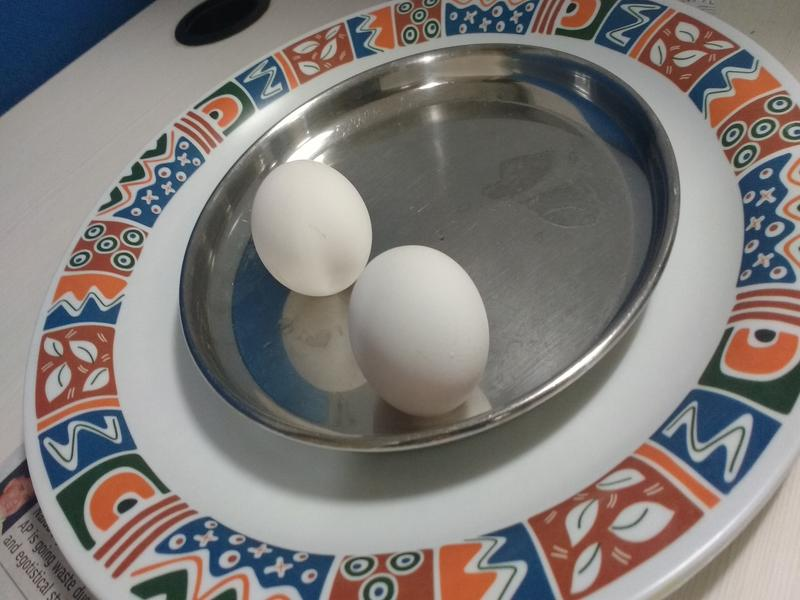egg: (350, 249, 491, 414)
